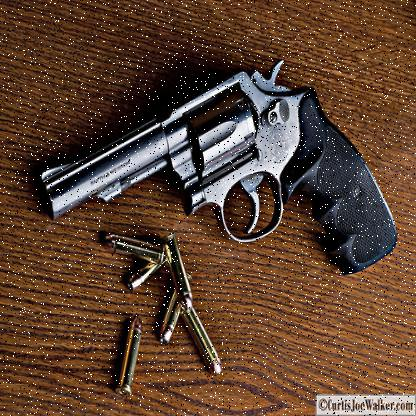pistol: (39, 51, 401, 296)
